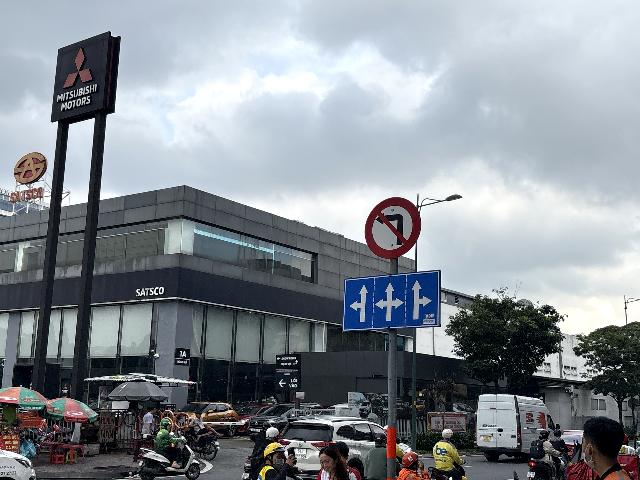cam-re-trai: (365, 196, 422, 259)
